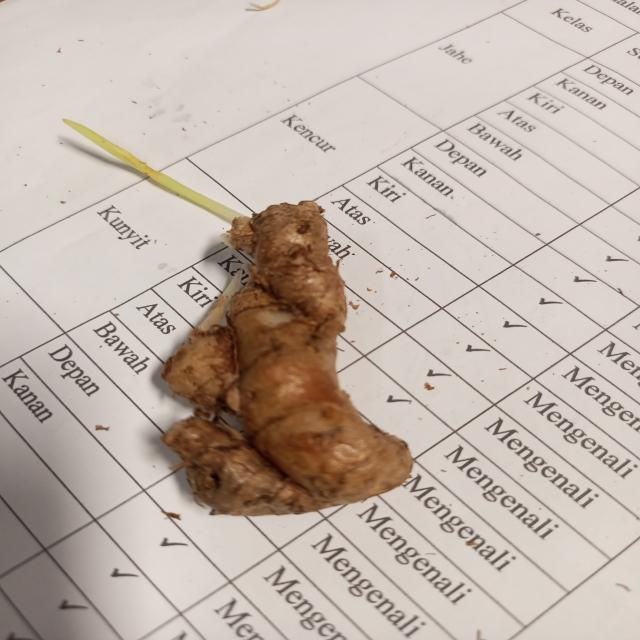ginger: (164, 202, 424, 497)
